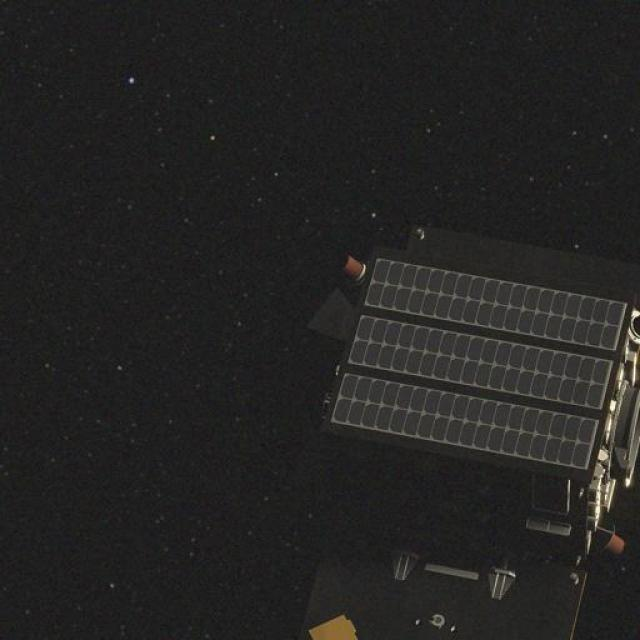proba_2: (287, 229, 640, 640)
